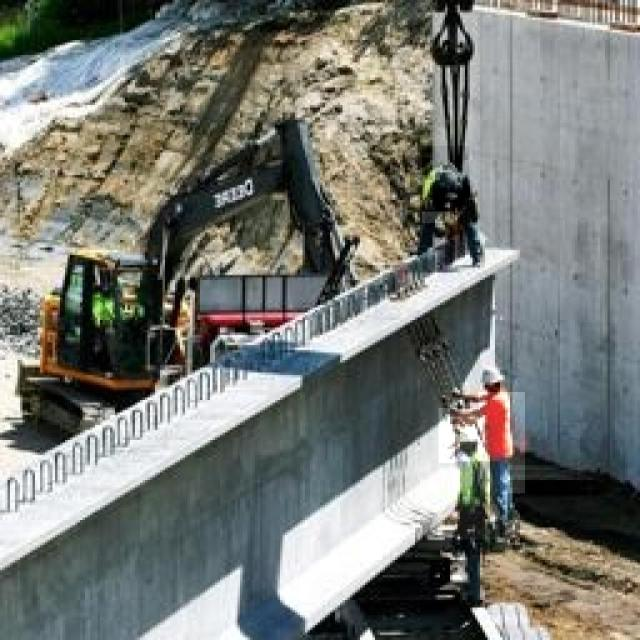Helmet: (479, 392, 525, 493), (465, 345, 513, 409), (438, 409, 482, 464), (422, 180, 454, 224)
Safety Vest: (455, 462, 500, 540), (422, 146, 469, 212)
